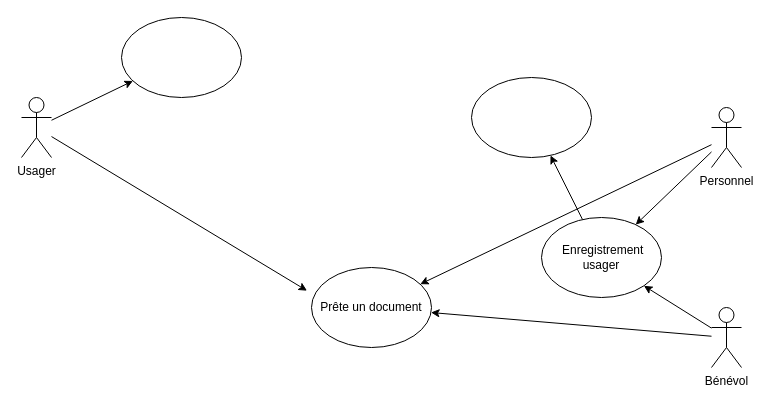
This 771x406 diagram has some shape labels left out. Here are the shapes that lost their labels. From the top down, the centre of each, then its label:
point (181, 57): Consulte un document
point (531, 117): Création de carte
